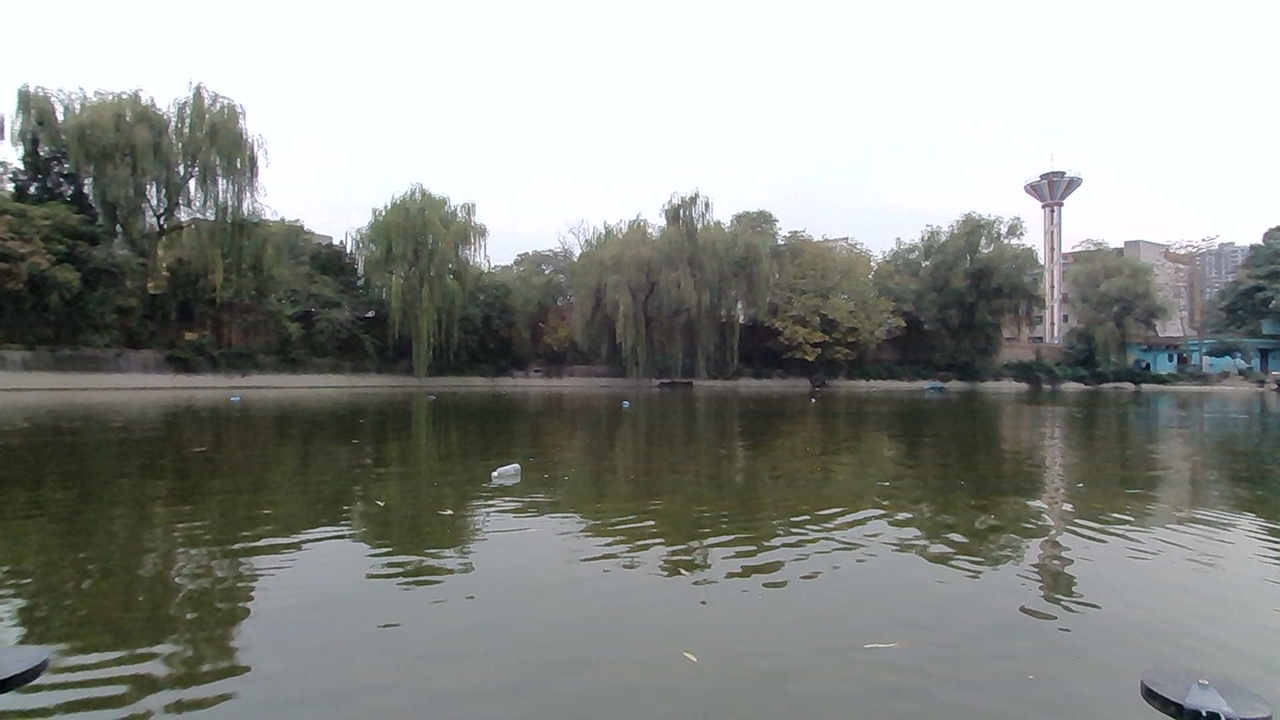bottle: (481, 458, 540, 487), (612, 397, 643, 415)
